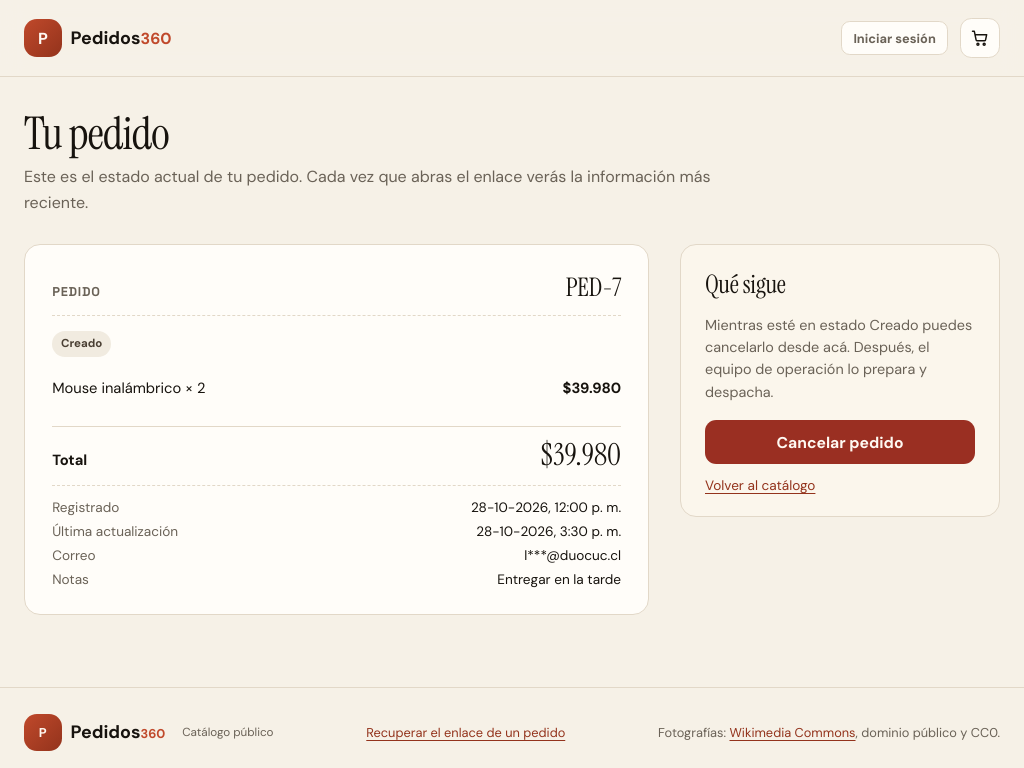
Test case: GuestTrackingPage › explica cuando el pedido ya no se puede cancelar
Click the button "Cancelar pedido": (840, 442) [705,420,975,464]
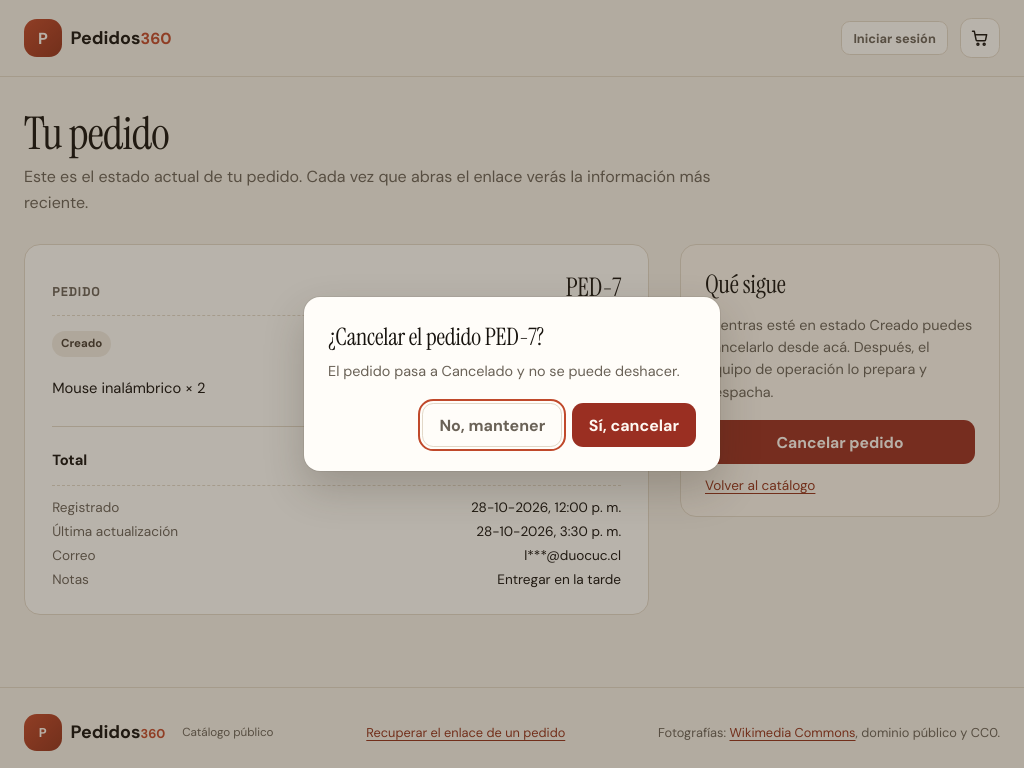
Click the button "Sí, cancelar": (634, 425) [572,403,696,447]
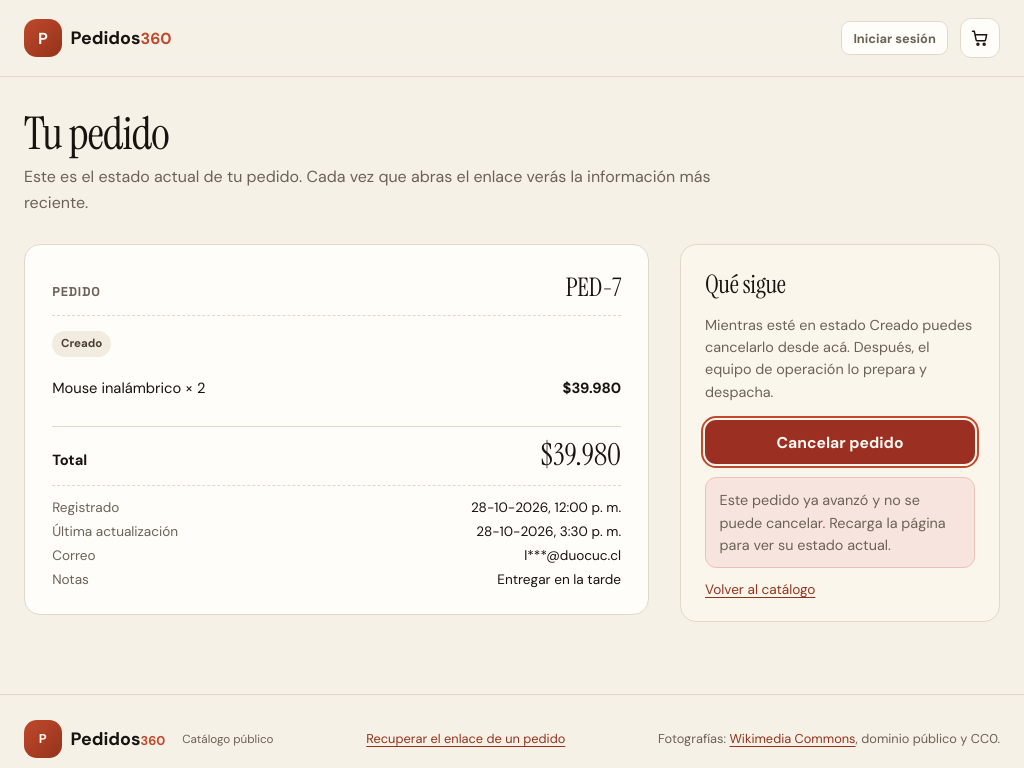
Expected: the text "ya avanzó y no se puede cancelar" is shown, [720,491,946,554]
